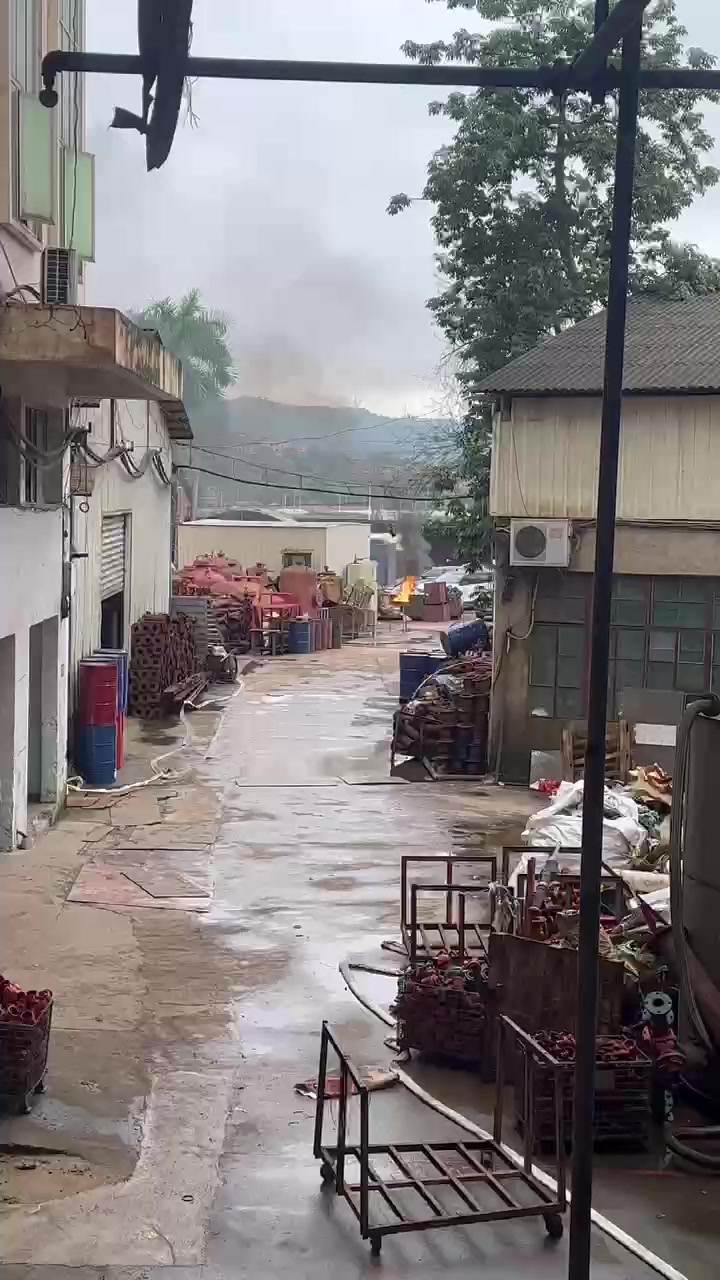fire: (391, 574, 412, 600)
